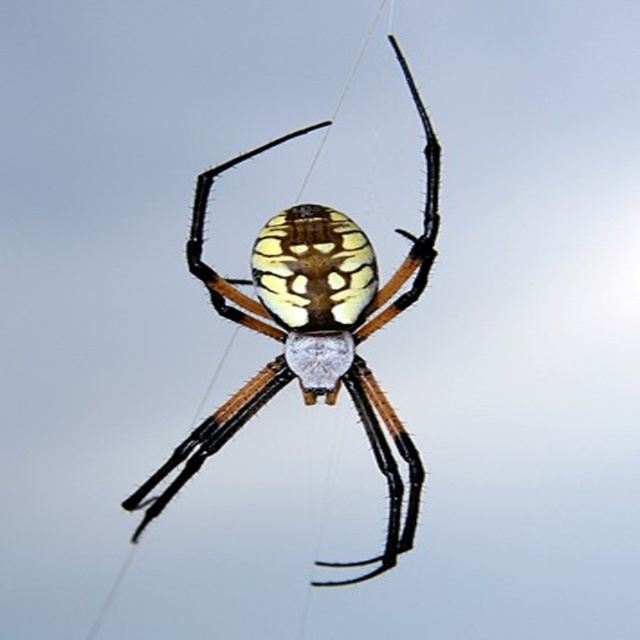Spider: (119, 34, 446, 587)
